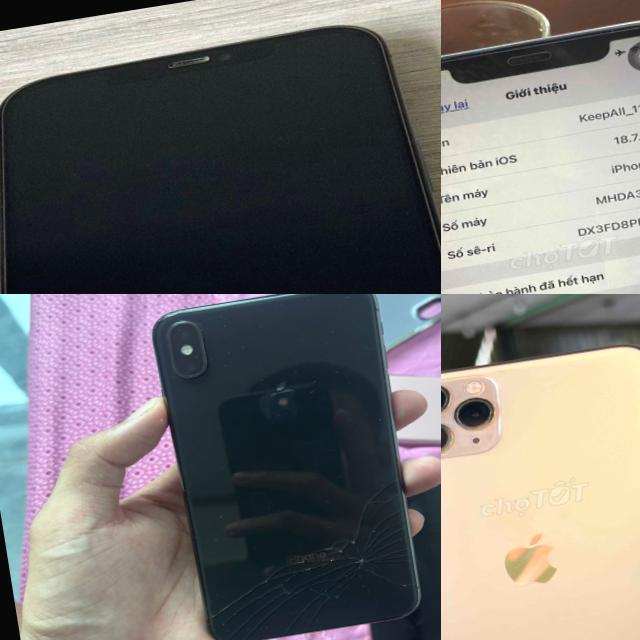physical_damage: (344, 473, 422, 608), (290, 524, 364, 620), (229, 544, 300, 640), (198, 577, 238, 640)
